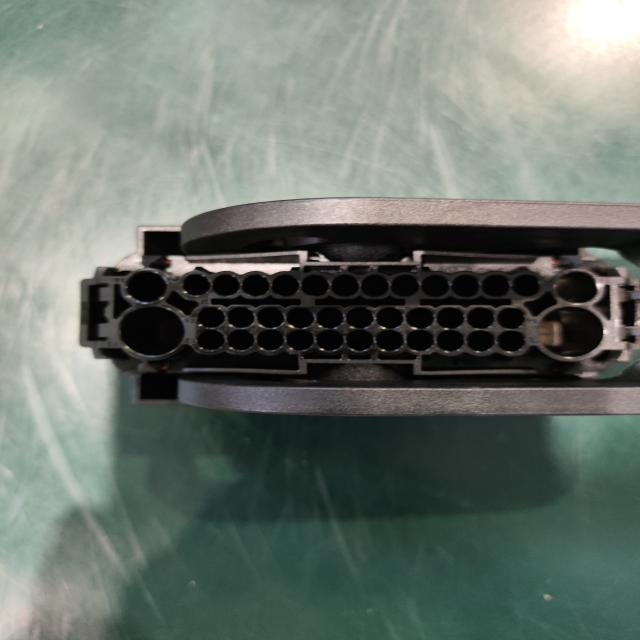P38: (80, 198, 640, 416)
